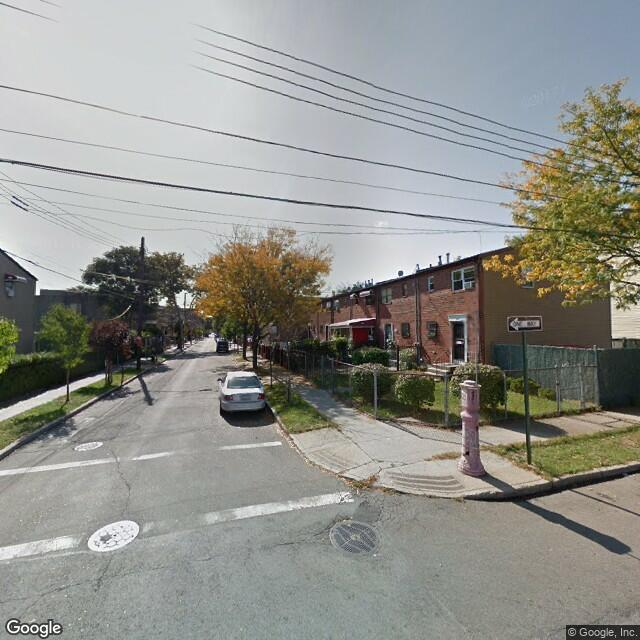litter: (44, 431, 58, 442), (108, 390, 121, 399)
